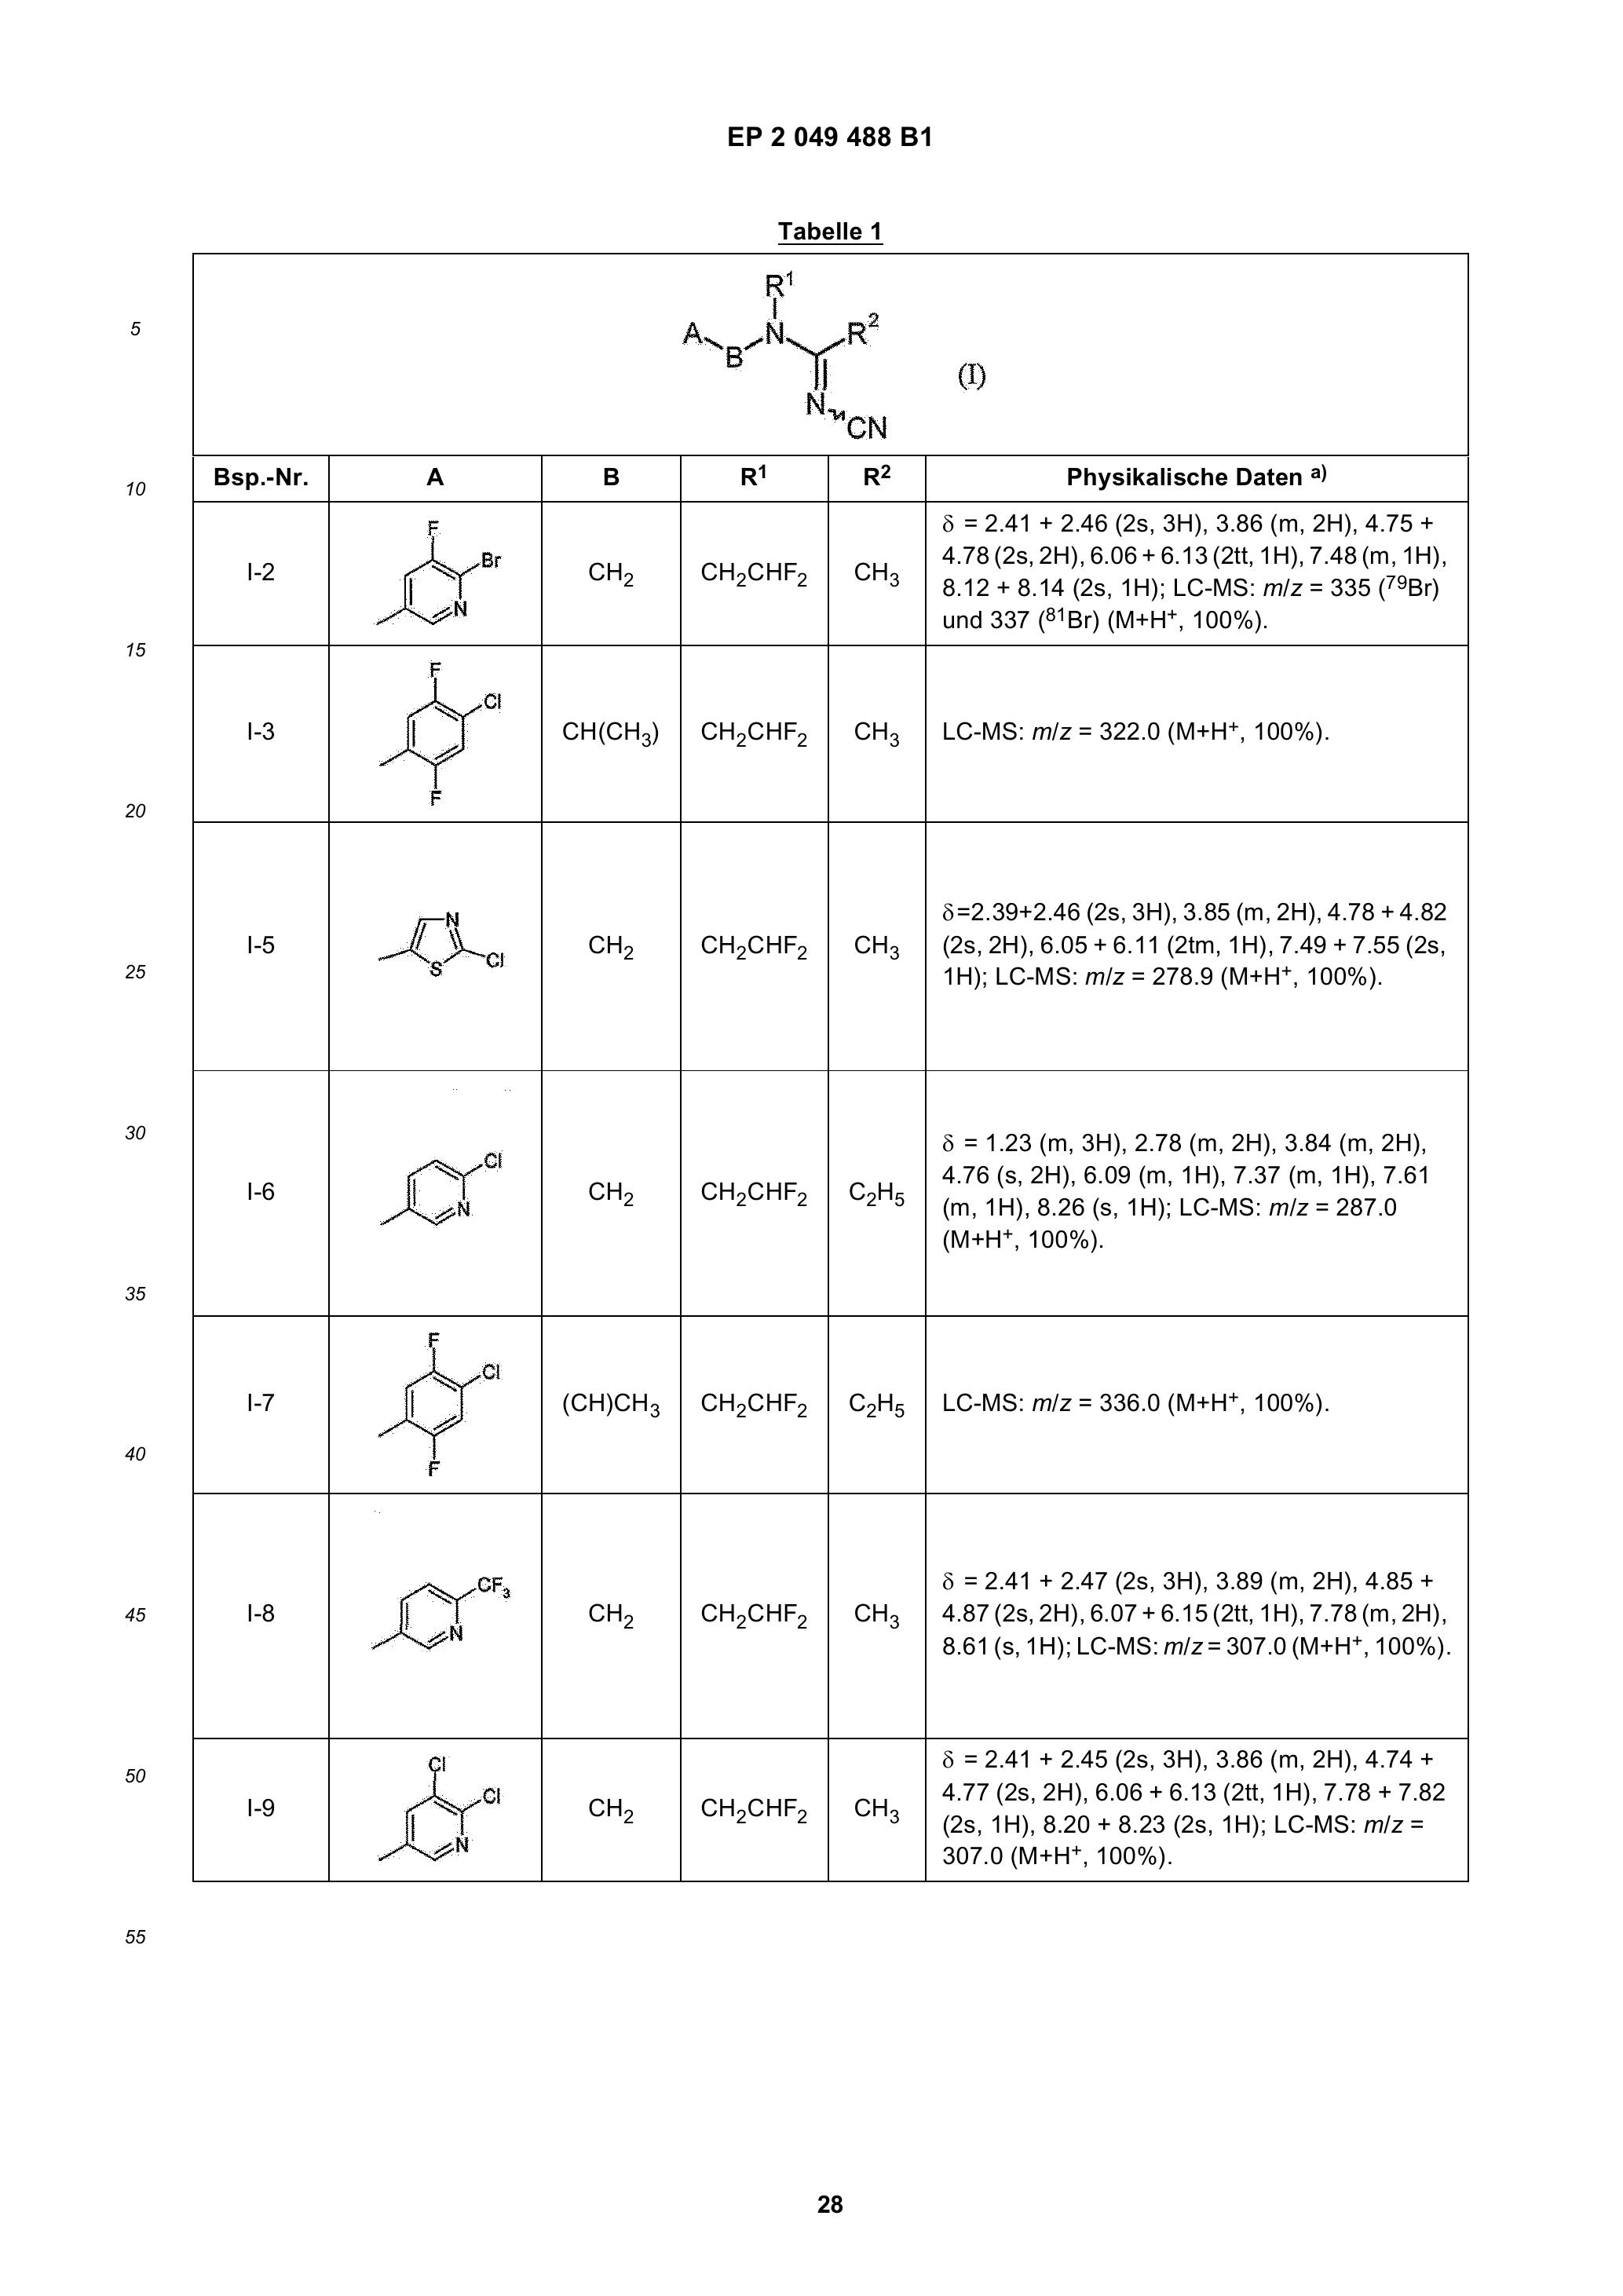markush-structures: (671, 251, 912, 443)
substitutes: (348, 1546, 541, 1700), (367, 1124, 523, 1267), (385, 1314, 518, 1476), (371, 877, 513, 1024), (371, 1730, 504, 1878), (371, 659, 499, 812), (378, 504, 508, 634), (697, 1581, 810, 1669), (701, 543, 813, 629), (701, 1771, 811, 1855), (685, 917, 822, 984), (692, 1374, 813, 1446), (559, 1368, 666, 1442), (697, 704, 813, 769), (553, 706, 667, 768), (696, 1166, 811, 1224), (569, 919, 641, 1000), (569, 548, 650, 615), (569, 1790, 650, 1852), (569, 1588, 638, 1653), (845, 534, 901, 604), (578, 1170, 650, 1224), (841, 1170, 905, 1230), (848, 718, 903, 776), (854, 1377, 899, 1444), (845, 1783, 899, 1830), (848, 1592, 898, 1639), (854, 938, 905, 980)
